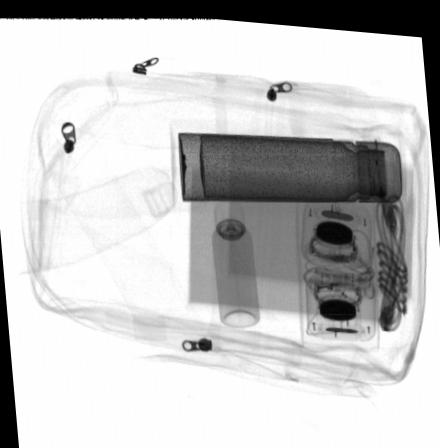Sprayer: (212, 199, 260, 324)
